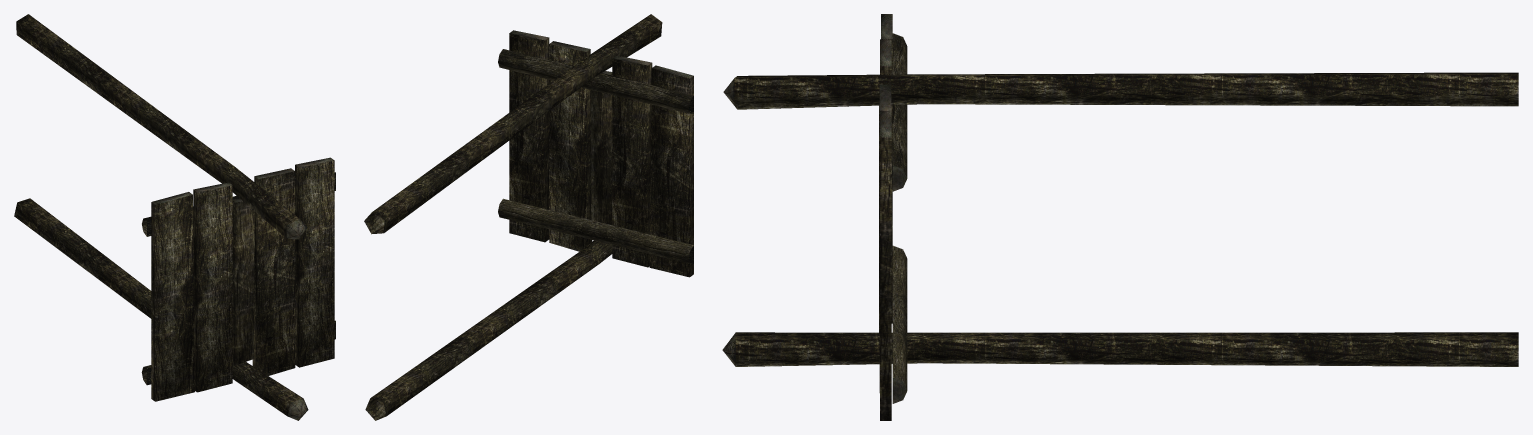
Rendered from ex_common_plat_end.obj.
The picture shows the model from 3 angles, left to right: view 1: azimuth 30°, elevation 25°; view 2: azimuth 150°, elevation 25°; view 3: azimuth 270°, elevation 25°; orthographic projection. The views are drawn at different scales.
Visible parts, largest first — view 1: Tri Ex_common_plat_end 3, Tri Ex_common_plat_end 4, Tri Ex_common_plat_end 2; view 2: Tri Ex_common_plat_end 3, Tri Ex_common_plat_end 1, Tri Ex_common_plat_end 4; view 3: Tri Ex_common_plat_end 3, Tri Ex_common_plat_end 1, Tri Ex_common_plat_end 4.
Part boxes in pixels (<box>): Tri Ex_common_plat_end 3: <box>14,14,334,416</box>; Tri Ex_common_plat_end 4: <box>151,157,334,204</box>; Tri Ex_common_plat_end 2: <box>286,219,308,420</box>; Tri Ex_common_plat_end 3: <box>364,14,693,420</box>; Tri Ex_common_plat_end 1: <box>498,49,693,263</box>; Tri Ex_common_plat_end 4: <box>509,30,693,78</box>; Tri Ex_common_plat_end 3: <box>734,39,1518,420</box>; Tri Ex_common_plat_end 1: <box>892,33,907,389</box>; Tri Ex_common_plat_end 4: <box>879,14,907,403</box>.
Size of the model in its own units: 256 by 267 by 653.
5 materials, 5 textured.
